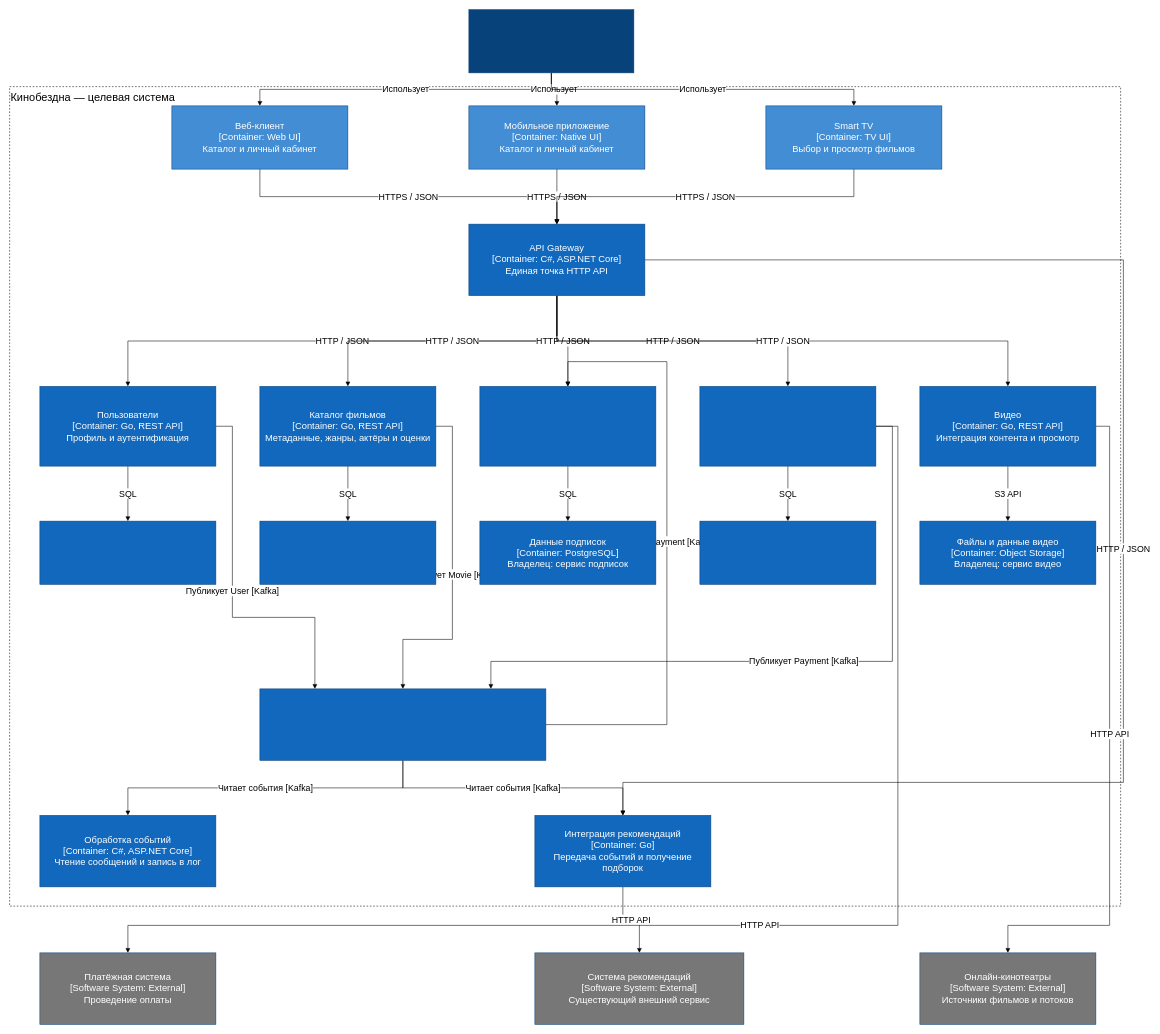
This 1160x1034 diagram has some shape labels left out. The shapes that lost their labels are listed below. From the top down, each one's box as (x1, y1, x2, y2) in pixels, then its label:
(468, 9, 634, 73): Пользователь [Person] Смотрит фильмы и управляет подпиской
(479, 386, 656, 466): Подписки и скидки [Container: Go, REST API] Тарифы, скидки и право просмотра
(699, 386, 876, 466): Платежи [Container: Go, REST API] Оплата и статус платежа
(39, 521, 216, 584): Данные пользователей [Container: PostgreSQL] Владелец: сервис пользователей
(259, 521, 436, 584): Данные каталога [Container: PostgreSQL] Владелец: сервис каталога
(699, 521, 876, 584): Данные платежей [Container: PostgreSQL] Владелец: платёжный сервис
(259, 688, 546, 760): Шина событий [Container: Kafka] user-events, movie-events, payment-events
